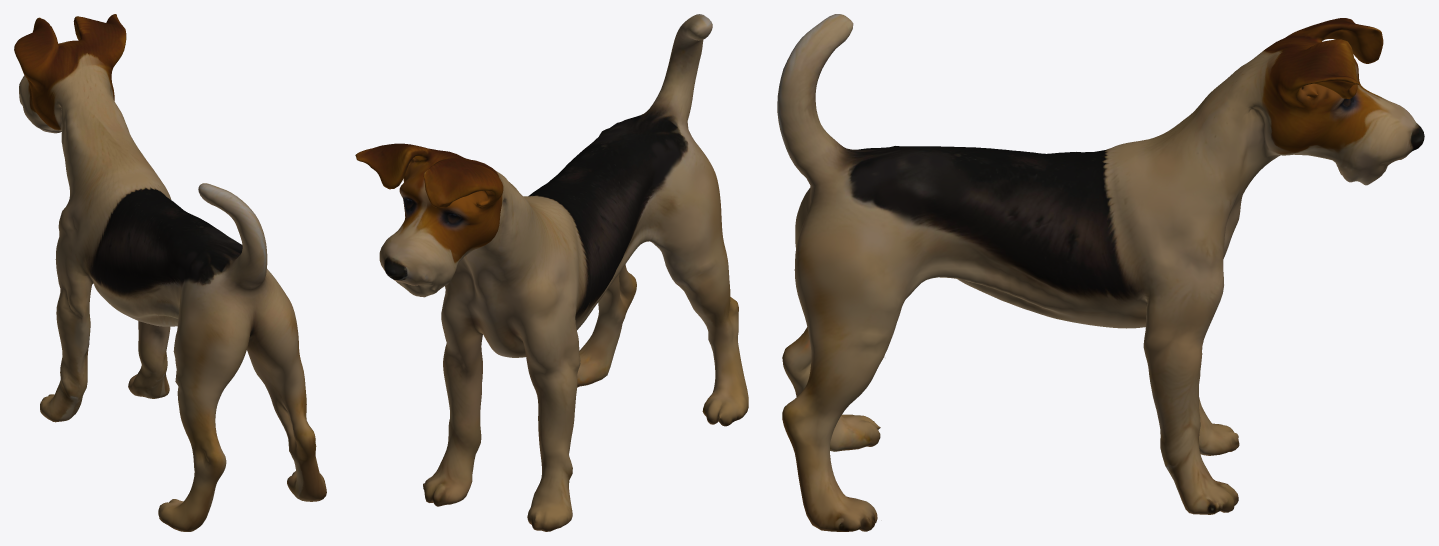
File: Фокстерьер.gltf
The picture shows the model from 3 angles, left to right: view 1: azimuth 30°, elevation 25°; view 2: azimuth 150°, elevation 25°; view 3: azimuth 270°, elevation 25°; orthographic projection. The views are drawn at different scales.
Visible parts, largest first — view 1: tripo_node_4b7173ec.1; view 2: tripo_node_4b7173ec.1; view 3: tripo_node_4b7173ec.1.
Part boxes in pixels (x1,y1,x2,y2): tripo_node_4b7173ec.1: (14,14,326,531); tripo_node_4b7173ec.1: (355,14,748,531); tripo_node_4b7173ec.1: (777,14,1424,531).
Size of the model in its own units: 39.13 by 81.29 by 103.
1 material, 1 textured.
